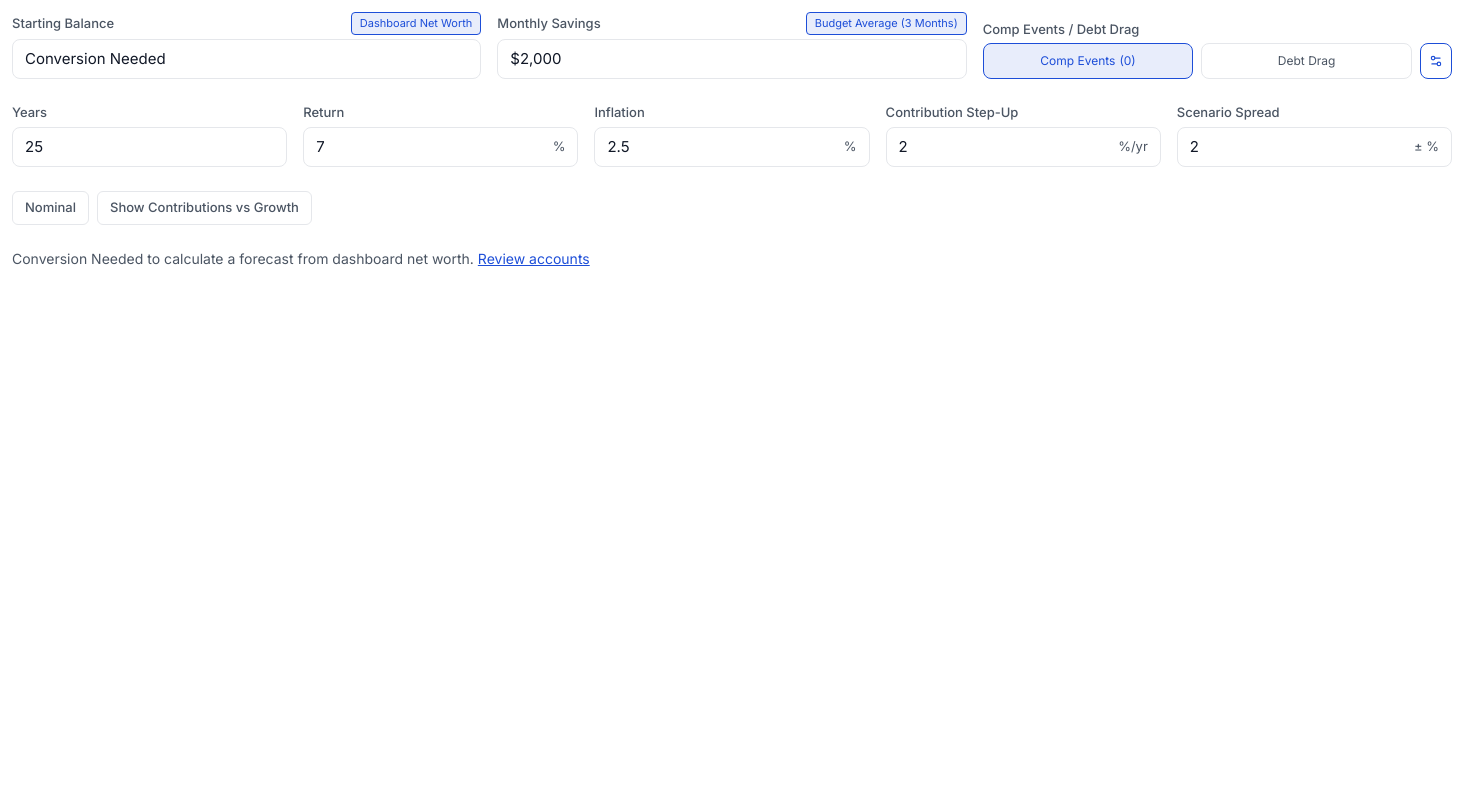
Test: ForecasterTool account valuation › withholds projection when automatic conversion is unavailable and restores results on manual selection
Expected: the text "Conversion Needed" is shown, [12,38,481,79]
Expected: the text "Projected FI Date" is not shown
Click the button "Dashboard Net Worth" at (416, 23), box [351,12,481,34]
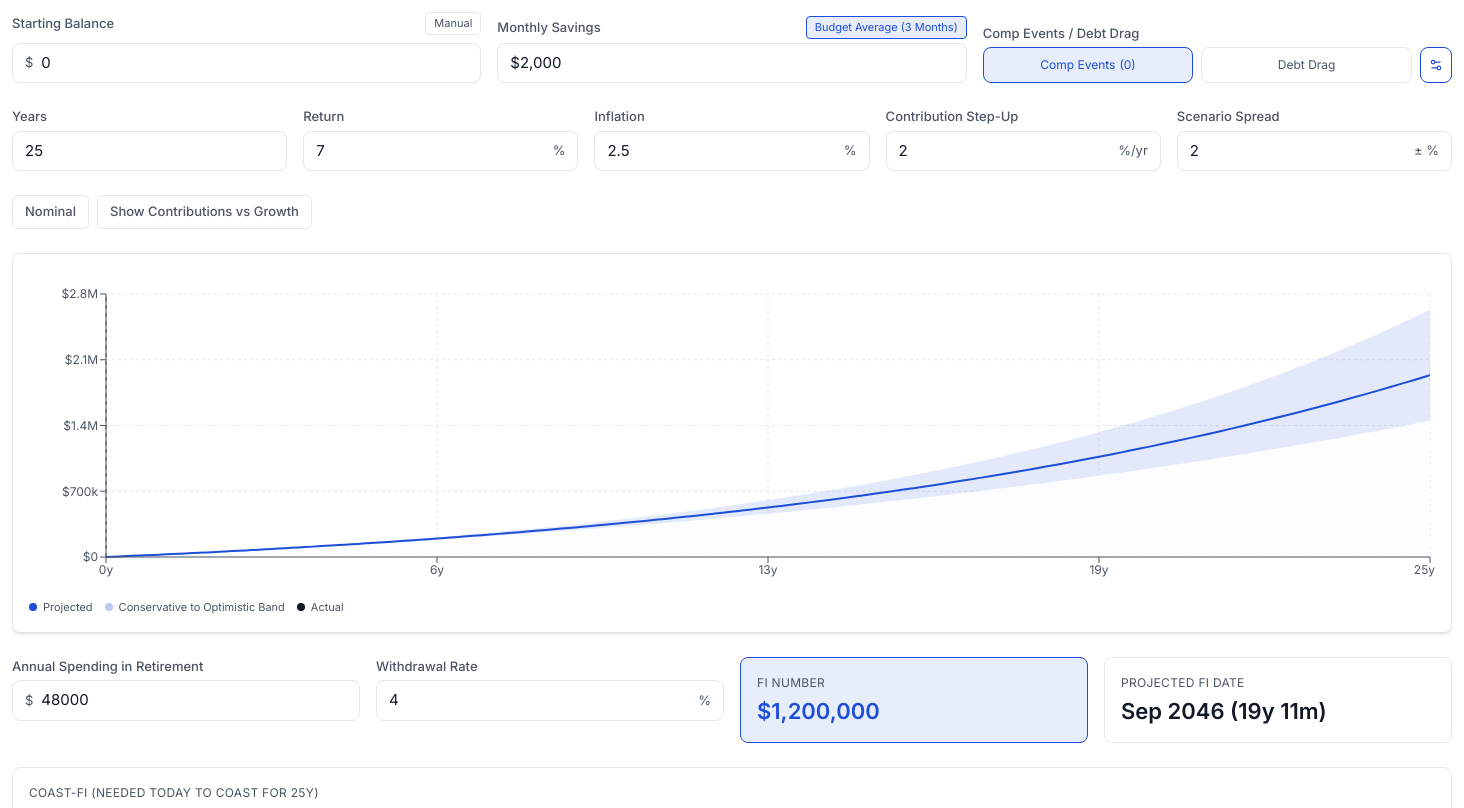
Expected: the text "Projected FI Date" is shown, [1121,674,1245,690]
